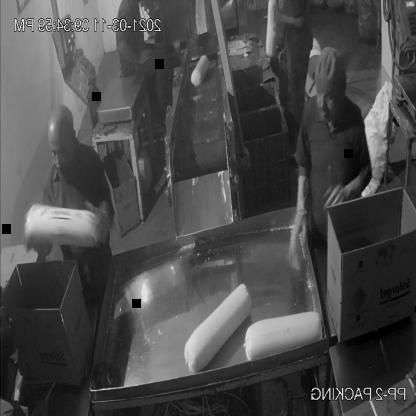glove: (288, 169, 311, 266)
no_glove: (115, 35, 154, 74)
